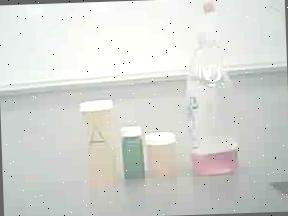Bottle A: (71, 92, 126, 190)
Bottle C: (143, 122, 182, 186), (118, 120, 149, 185)
hazard: (175, 0, 253, 182)
